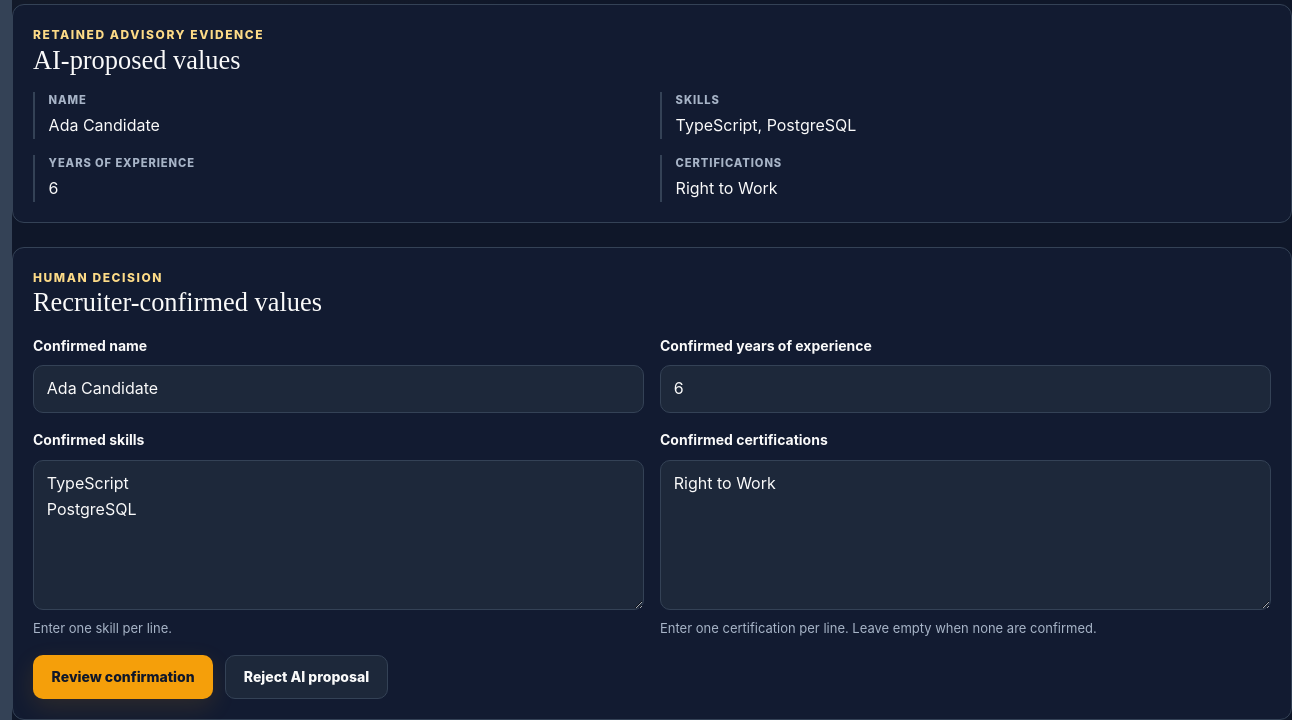
CvProposalReview › requires explicit confirmation and renders the authoritative backend response
(page scrolled)
Replace the text in the field labelled "Confirmed name" with "Ada Z. Candidate". click: (338,389)
box: [33,365,644,413]
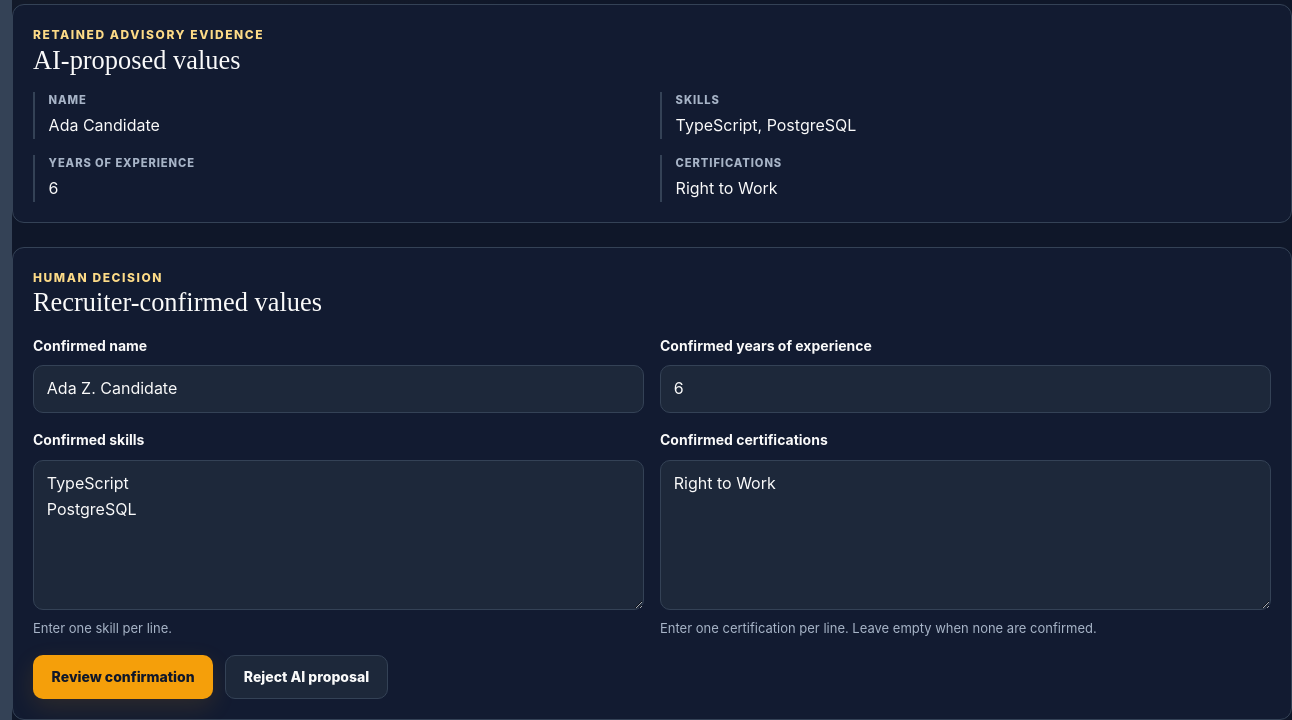
Replace the text in the number field labelled "Confirmed years of experience" with "7". click: (966,389)
box: [660,365,1271,413]
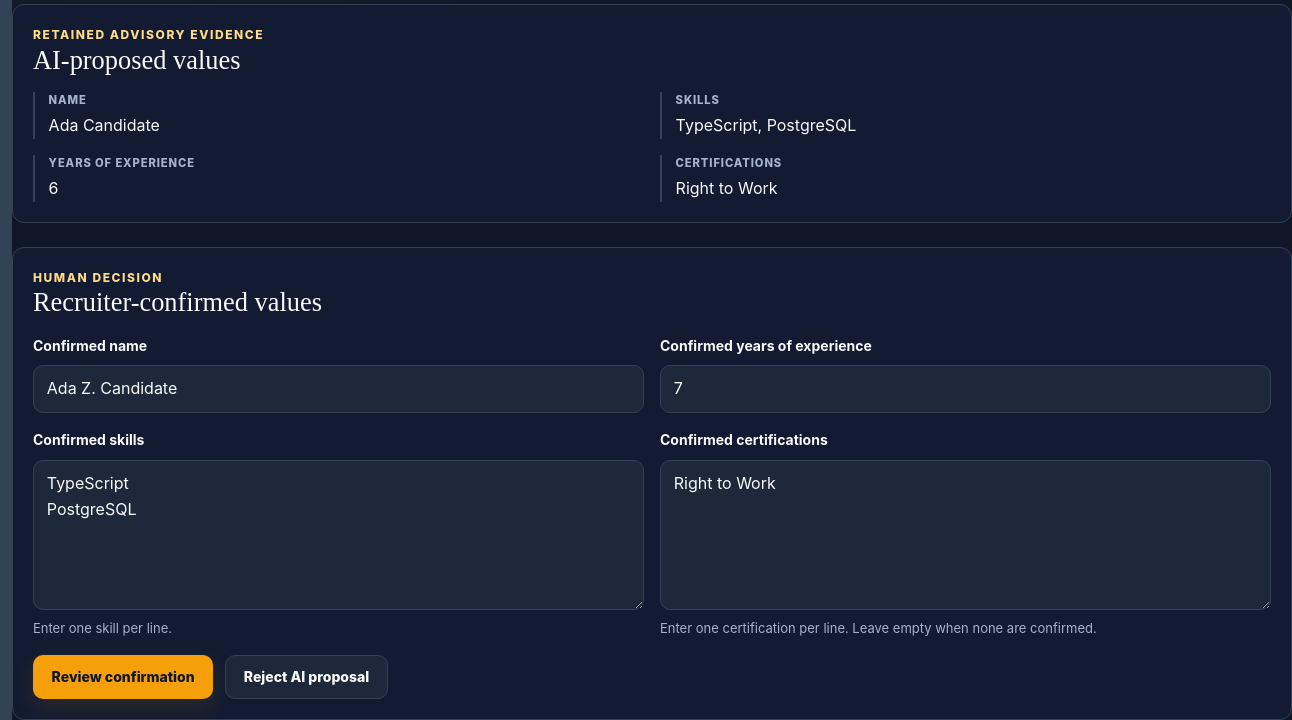
Submit the form named "Review confirmation"
(page scrolled)
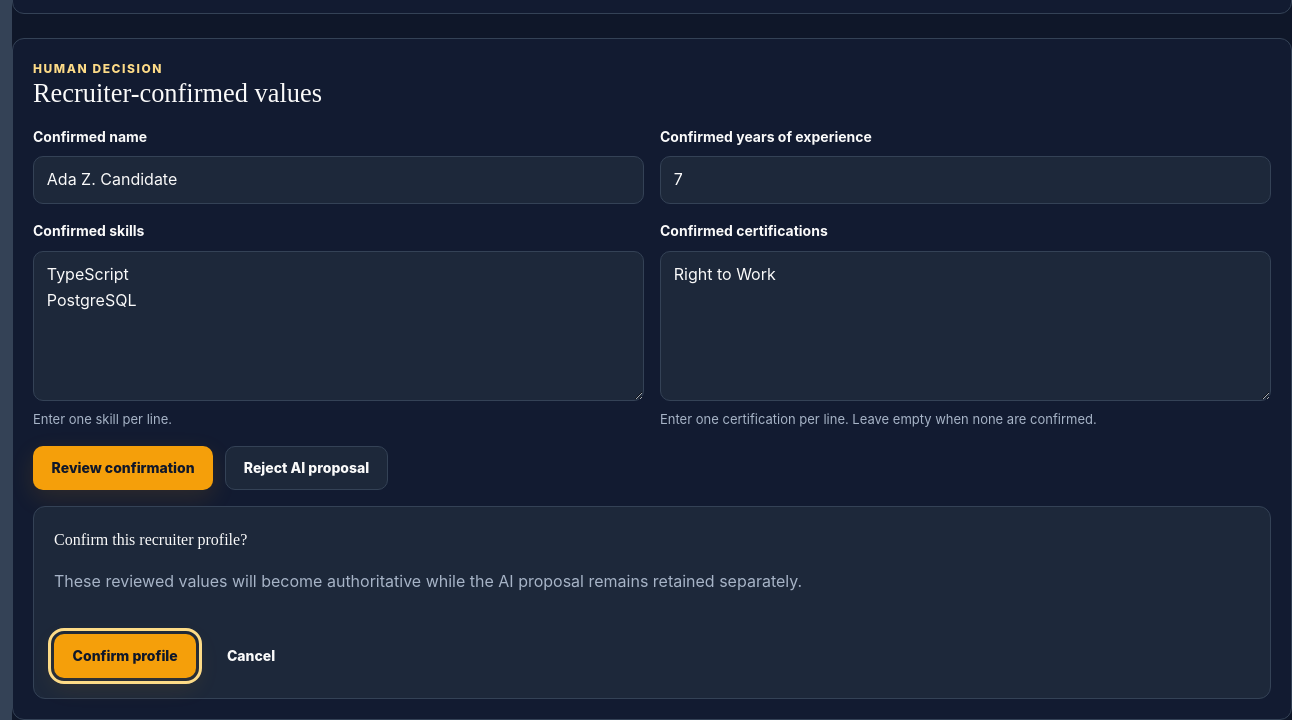
Click the button "Confirm profile". click: (125,656)
box: [54,634,196,678]
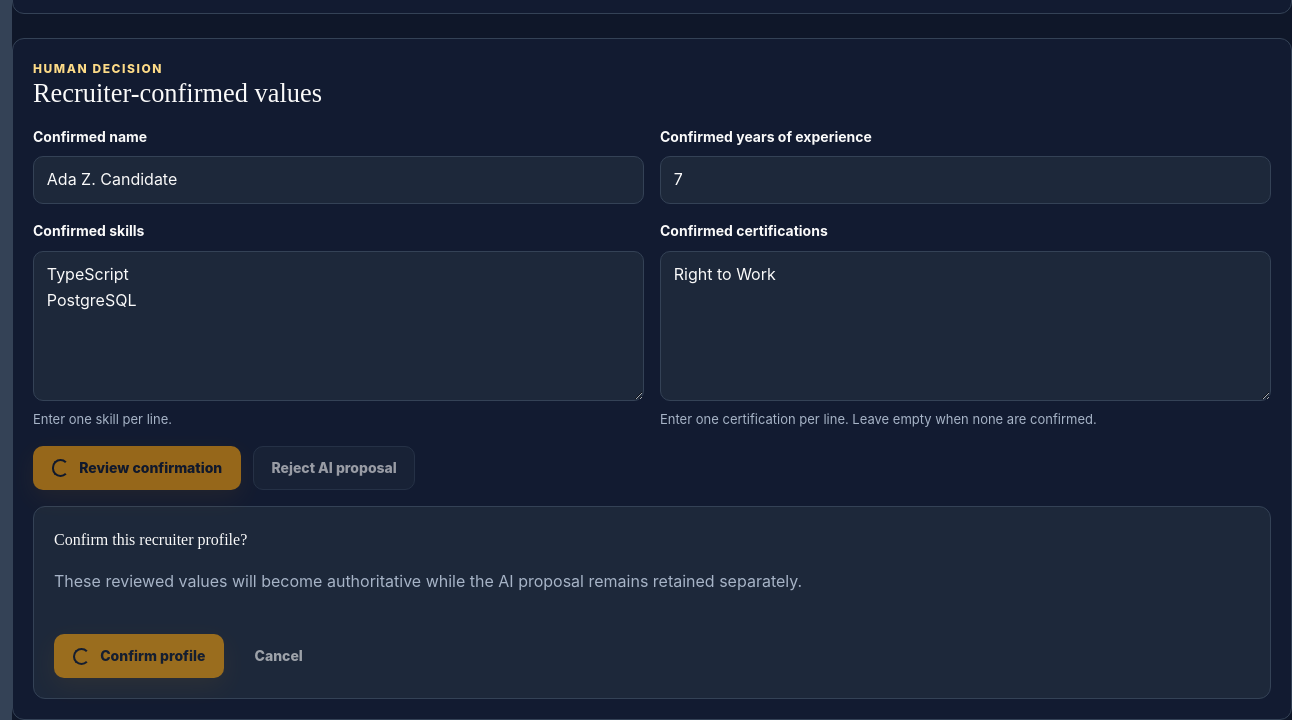
Click the button "Confirm profile". click: (139,656)
box: [54,634,224,678]
(page scrolled)
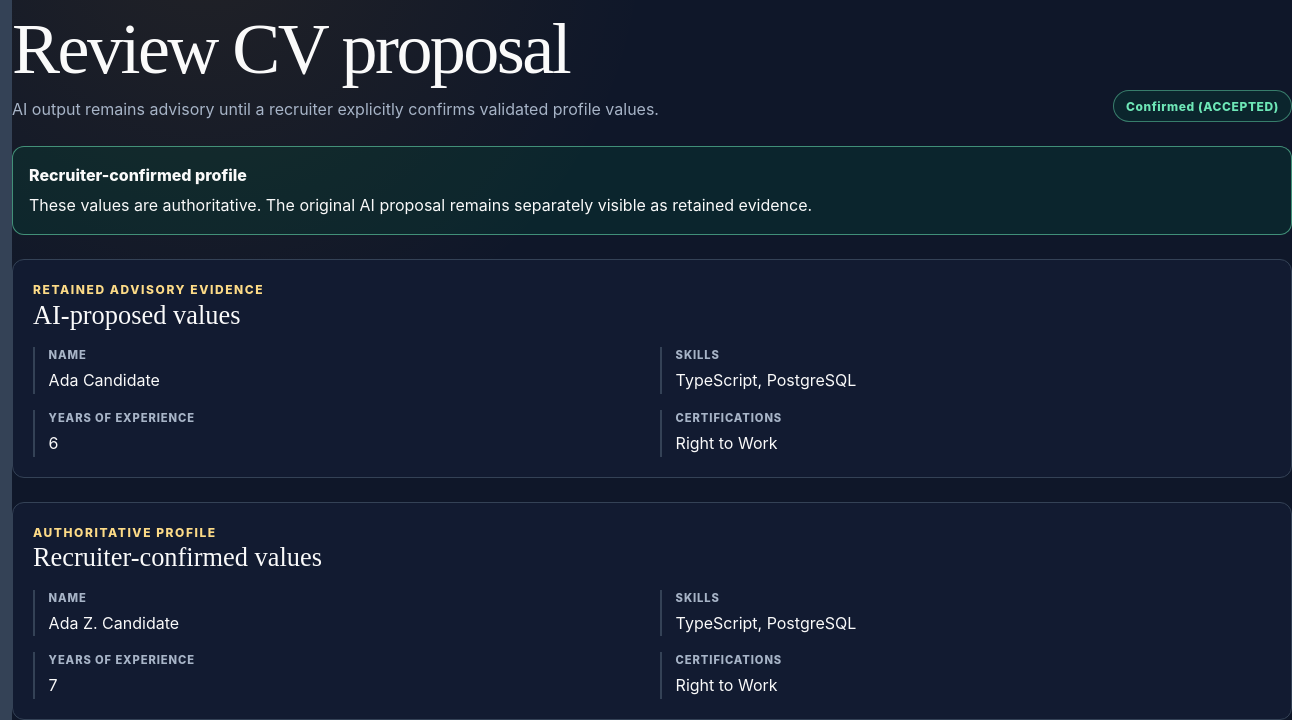
Check: the text "Recruiter-confirmed profile" is shown, box [29,165,247,185]
Check: the text "Confirmed (ACCEPTED)" is shown, box [1113,90,1291,122]
Check: the button "Confirm profile" is gone
